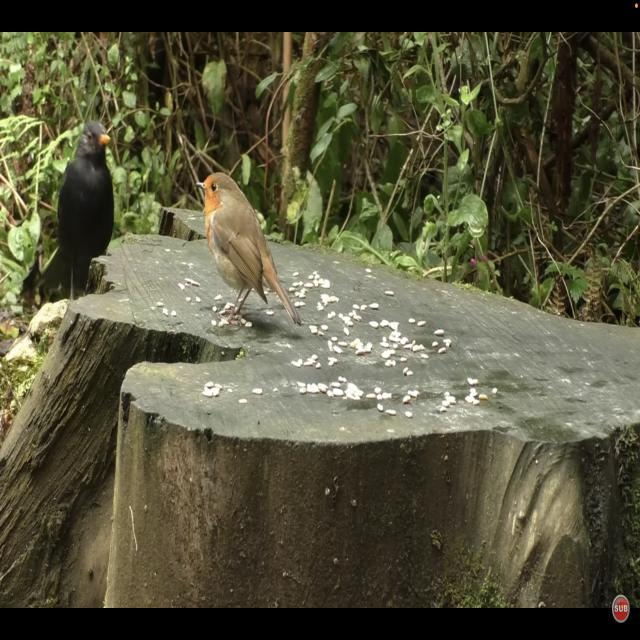beak: (98, 135, 111, 144), (195, 181, 205, 188)
bird: (196, 171, 300, 327), (56, 118, 116, 300)
